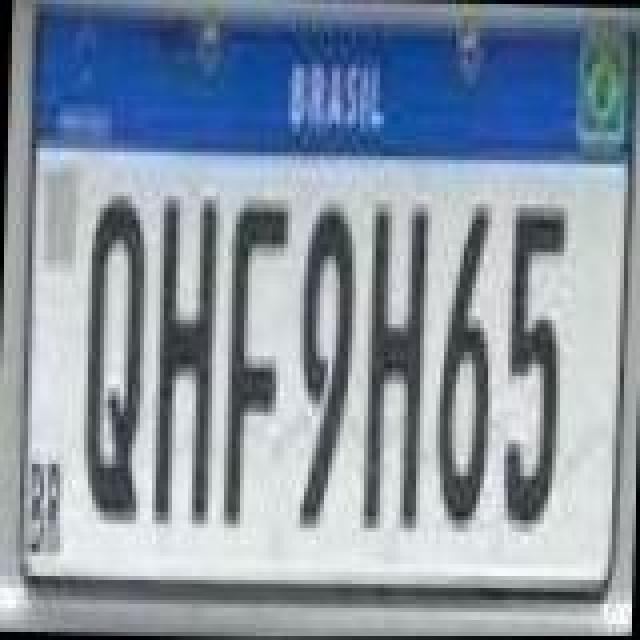5: (500, 200, 568, 528)
6: (428, 202, 496, 530)
9: (290, 198, 362, 534)
F: (218, 200, 290, 528)
H: (146, 190, 218, 526), (354, 196, 426, 532)
Q: (74, 188, 146, 524)
